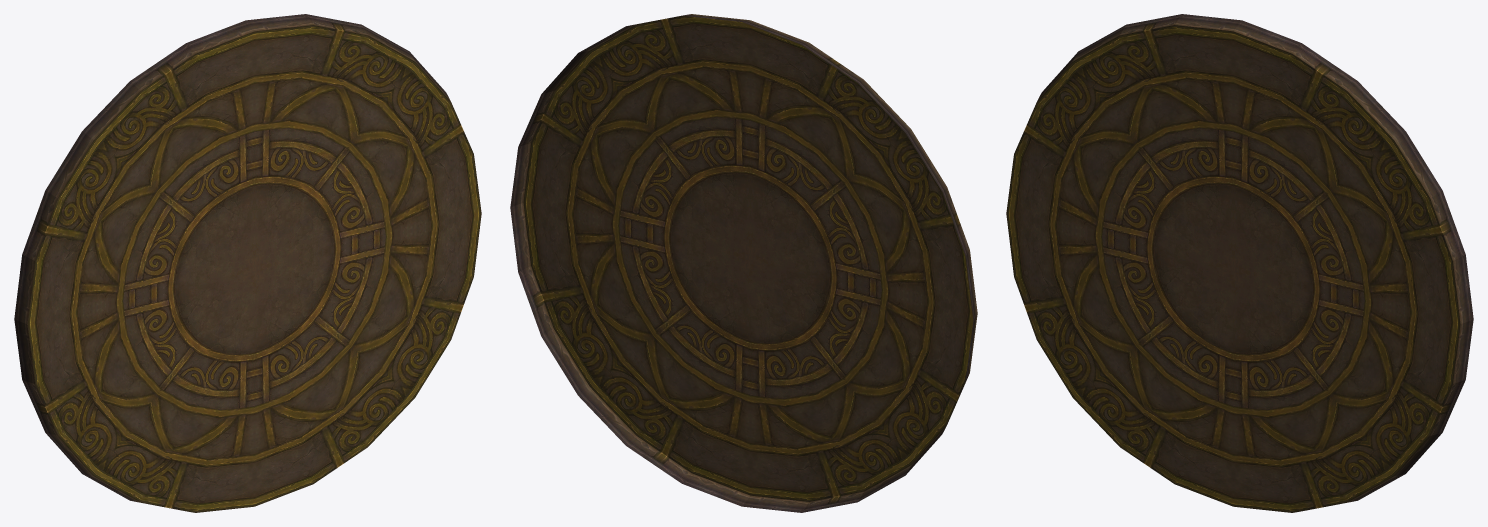
Rendered from huodong_fuben_598_yuanpan01.obj.
3 renders of one model, left to right at view 1: azimuth 30°, elevation 25°; view 2: azimuth 150°, elevation 25°; view 3: azimuth 330°, elevation 25°, orthographic.
Parts seen in each view (by area): view 1: huodong_fuben_598_yuanpan01; view 2: huodong_fuben_598_yuanpan01; view 3: huodong_fuben_598_yuanpan01.
Boxes of the visible parts, bbox=[...] form: huodong_fuben_598_yuanpan01: bbox=[14, 14, 481, 512]; huodong_fuben_598_yuanpan01: bbox=[510, 14, 977, 512]; huodong_fuben_598_yuanpan01: bbox=[1006, 14, 1473, 512].
Size of the model in its own units: 1659 by 1659 by 54.05.
Materials: 2 (2 with a texture image).
